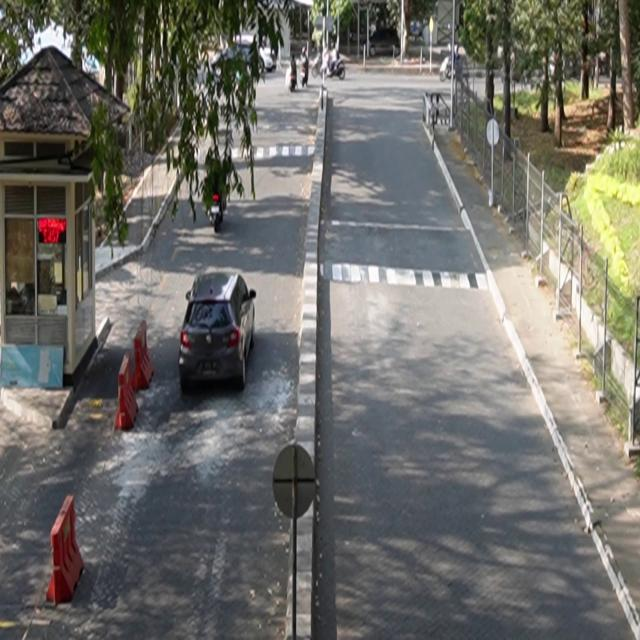car: (179, 272, 257, 392)
